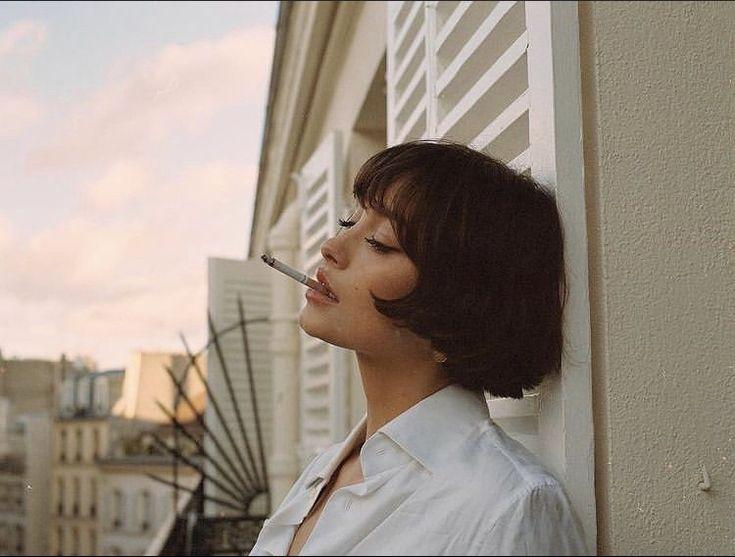cigarette: (260, 254, 327, 296)
